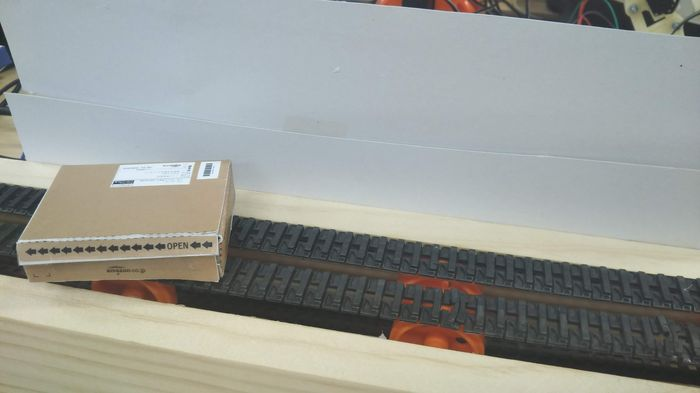box2: (14, 156, 235, 285)
